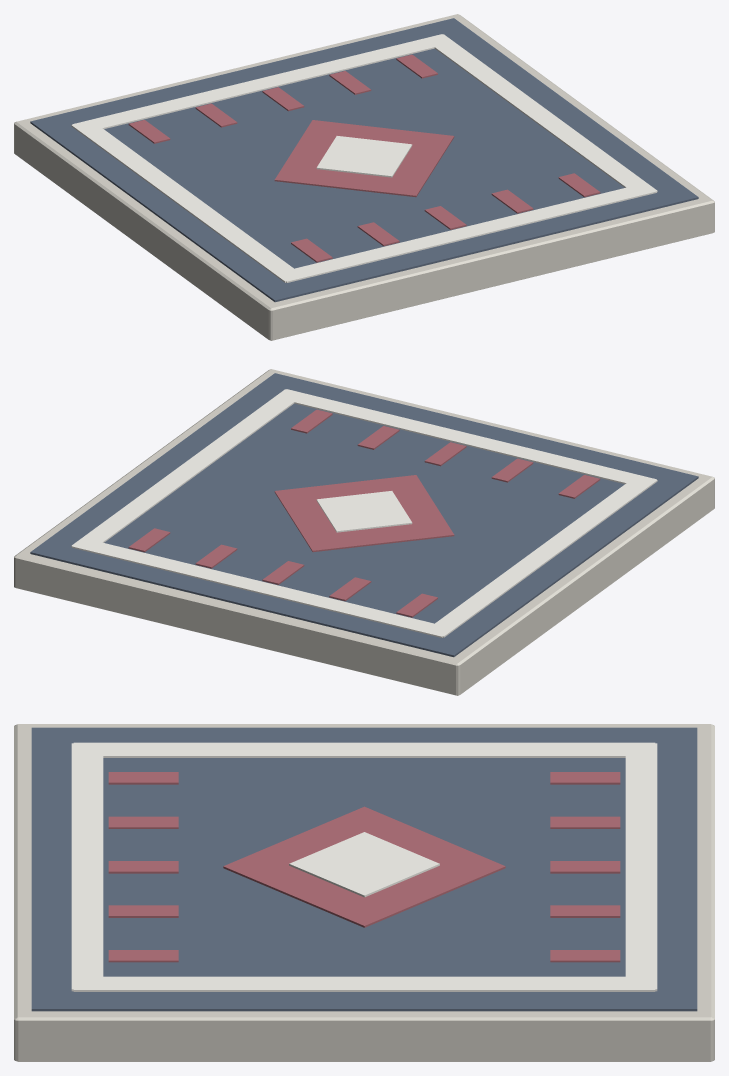
File: roman-bathhouse-and-palaestra-mosaic-floor-plate-302019f1__37850.glb
The picture shows the model from 3 angles, top to bottom: view 1: azimuth 30°, elevation 25°; view 2: azimuth 150°, elevation 25°; view 3: azimuth 270°, elevation 25°; orthographic projection. The views are drawn at different scales.
Parts seen in each view (by area): view 1: mosaic-floor-plate; view 2: mosaic-floor-plate; view 3: mosaic-floor-plate.
Part boxes in pixels (box(x1,y1,x2,y2)): mosaic-floor-plate: box(14, 14, 714, 340); mosaic-floor-plate: box(14, 369, 714, 695); mosaic-floor-plate: box(14, 724, 714, 1061).
Size of the model in its own units: 2 by 0.162 by 2.
